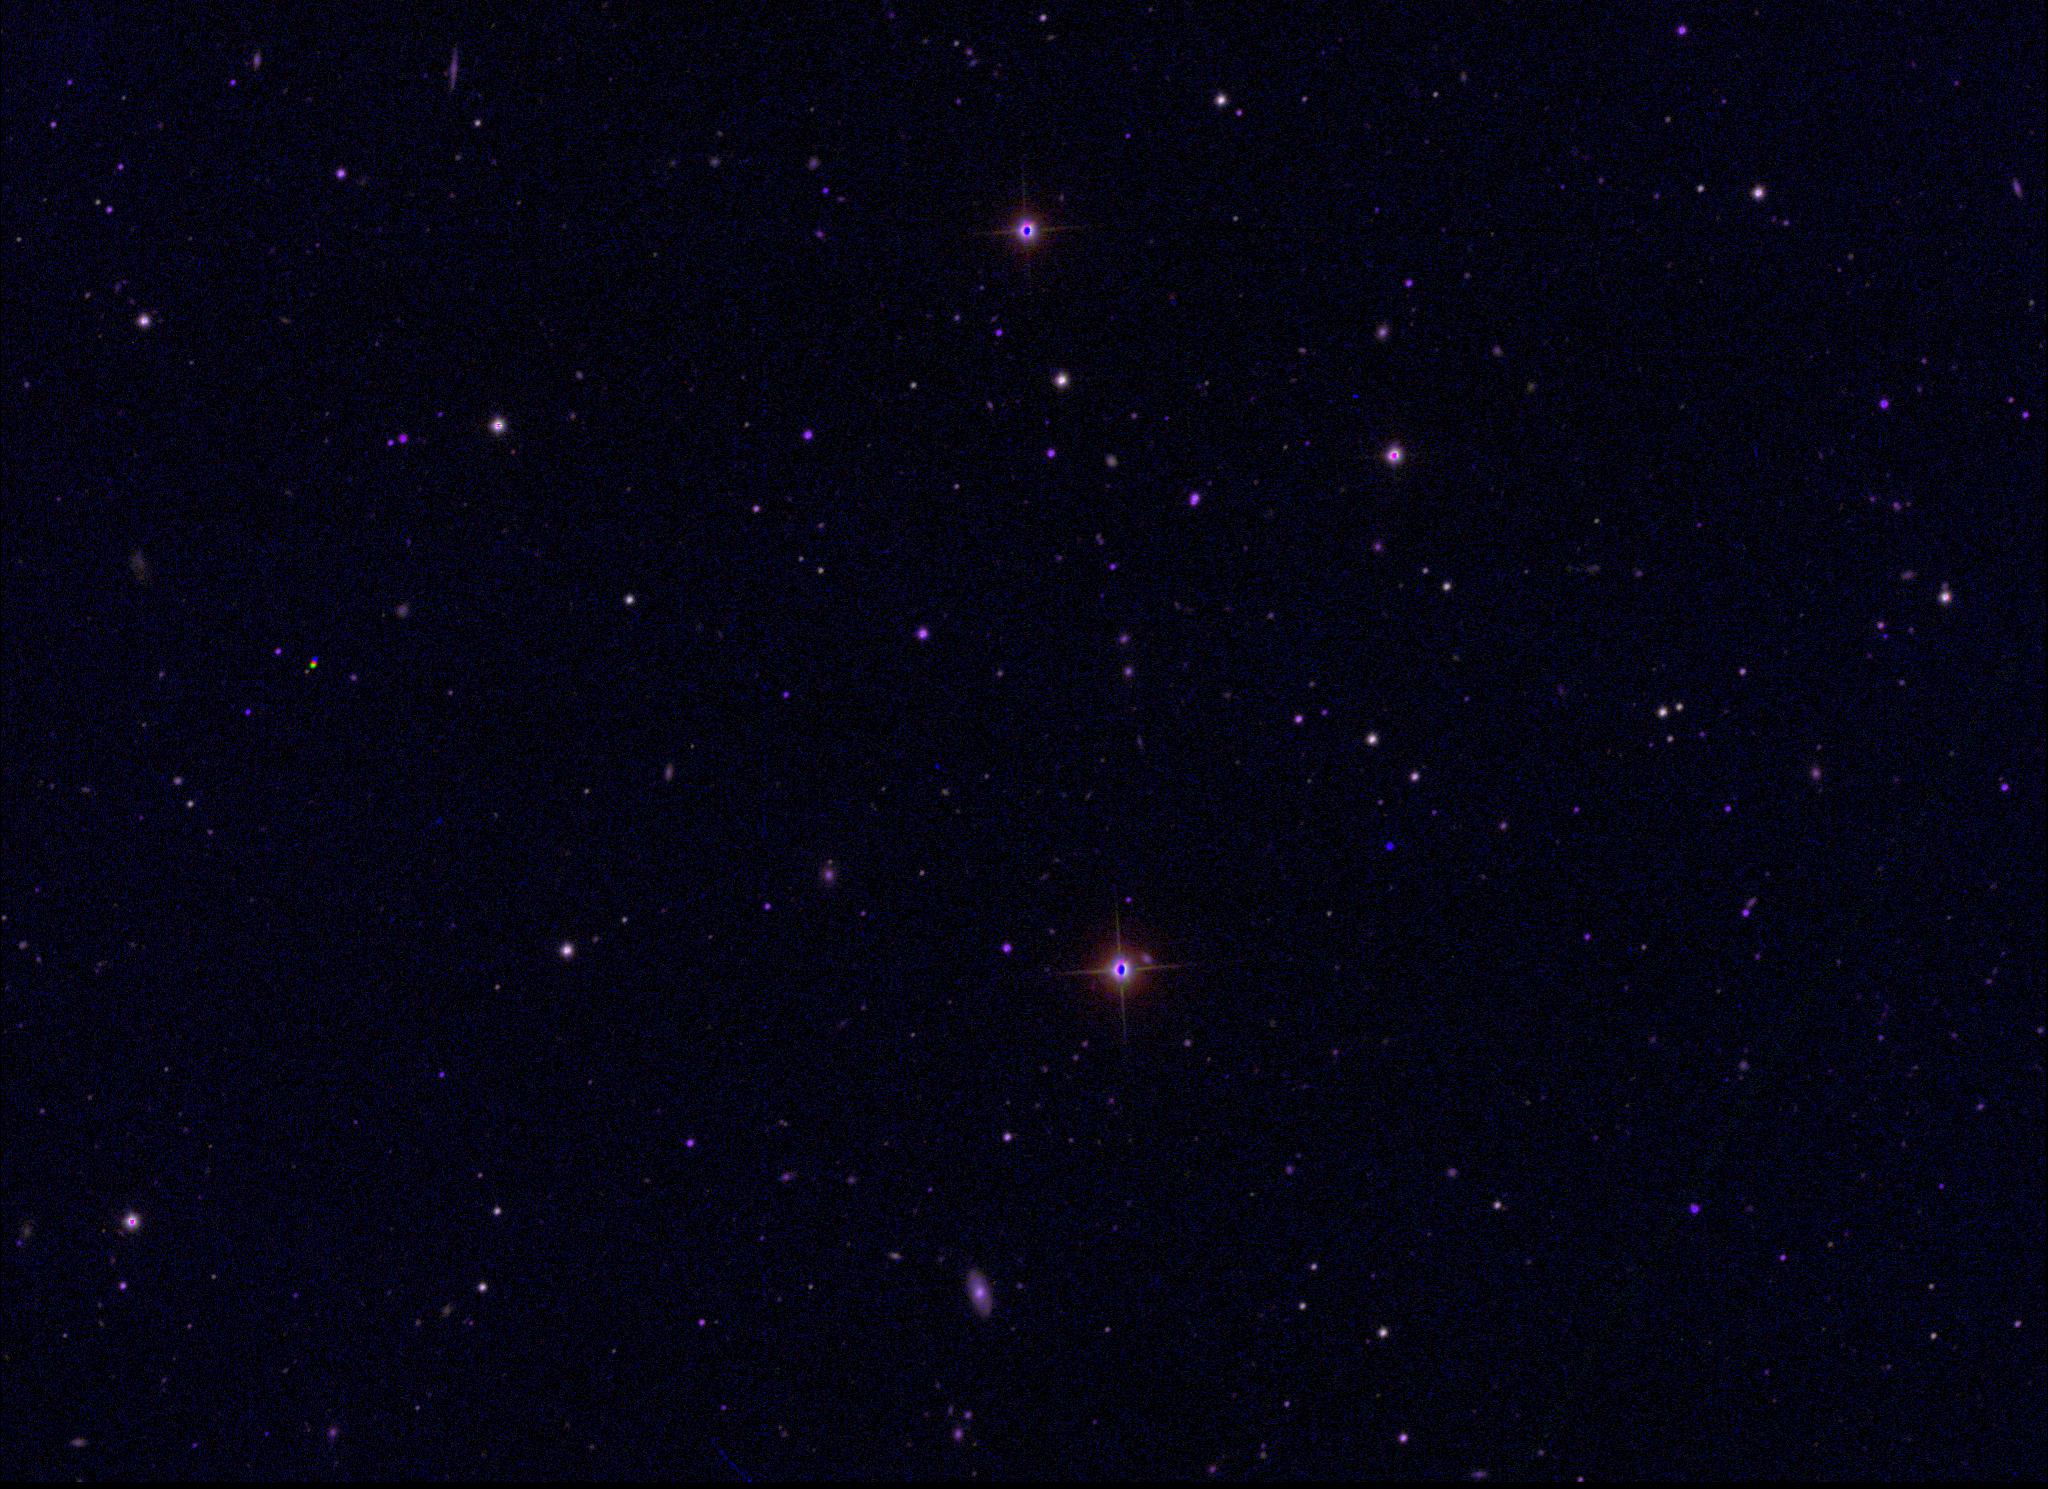L: (1383, 838, 1398, 853)
